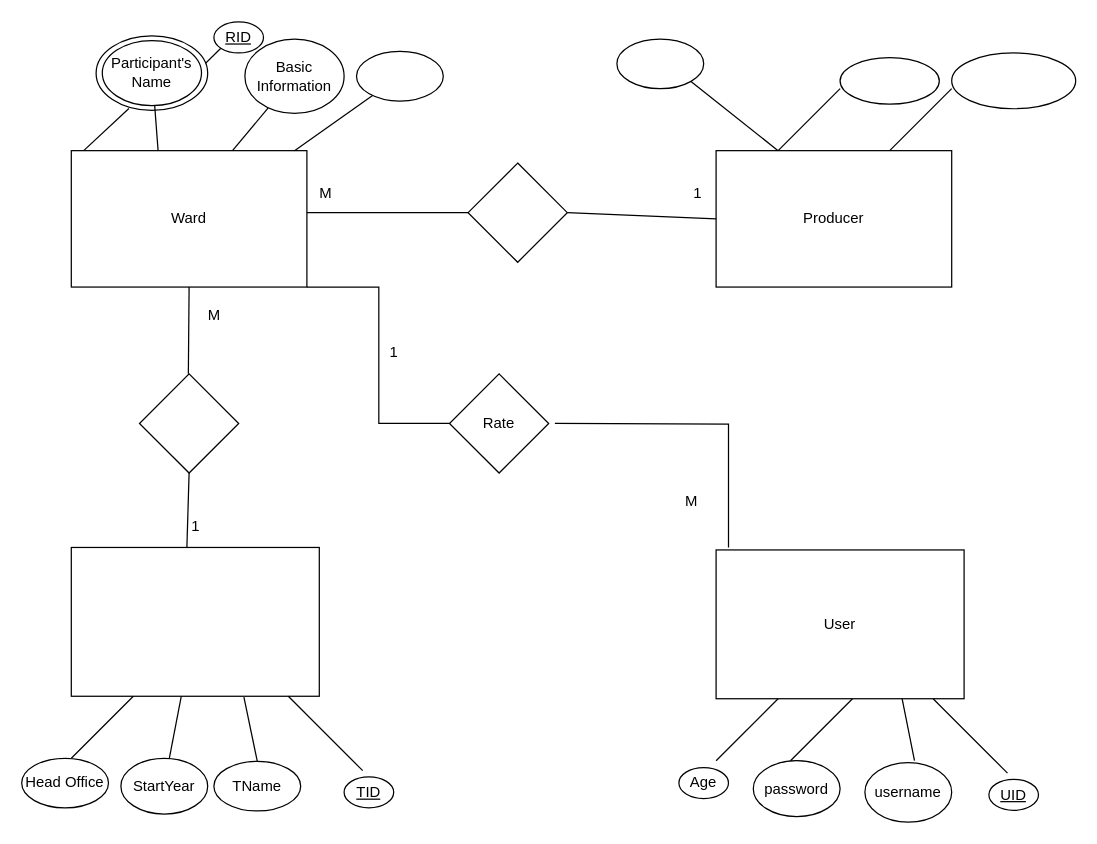
This 1097x844 diagram has some shape labels left out. The shapes that lost their labels are listed below. From the top down, each one's box as (x1, y1, x2, y2) in pixels, then its label:
(355, 50, 443, 101): Name
(616, 38, 704, 89): Country
(839, 56, 939, 104): PID
(950, 52, 1076, 109): Company Name
(467, 162, 567, 262): Produce
(138, 373, 239, 473): Brodcast
(70, 546, 319, 696): Tv Channel
